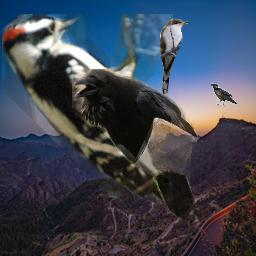Crow: (72, 69, 198, 223), (210, 83, 237, 107)
Cuckoo: (159, 18, 188, 94)
Woodpecker: (2, 14, 173, 201)
